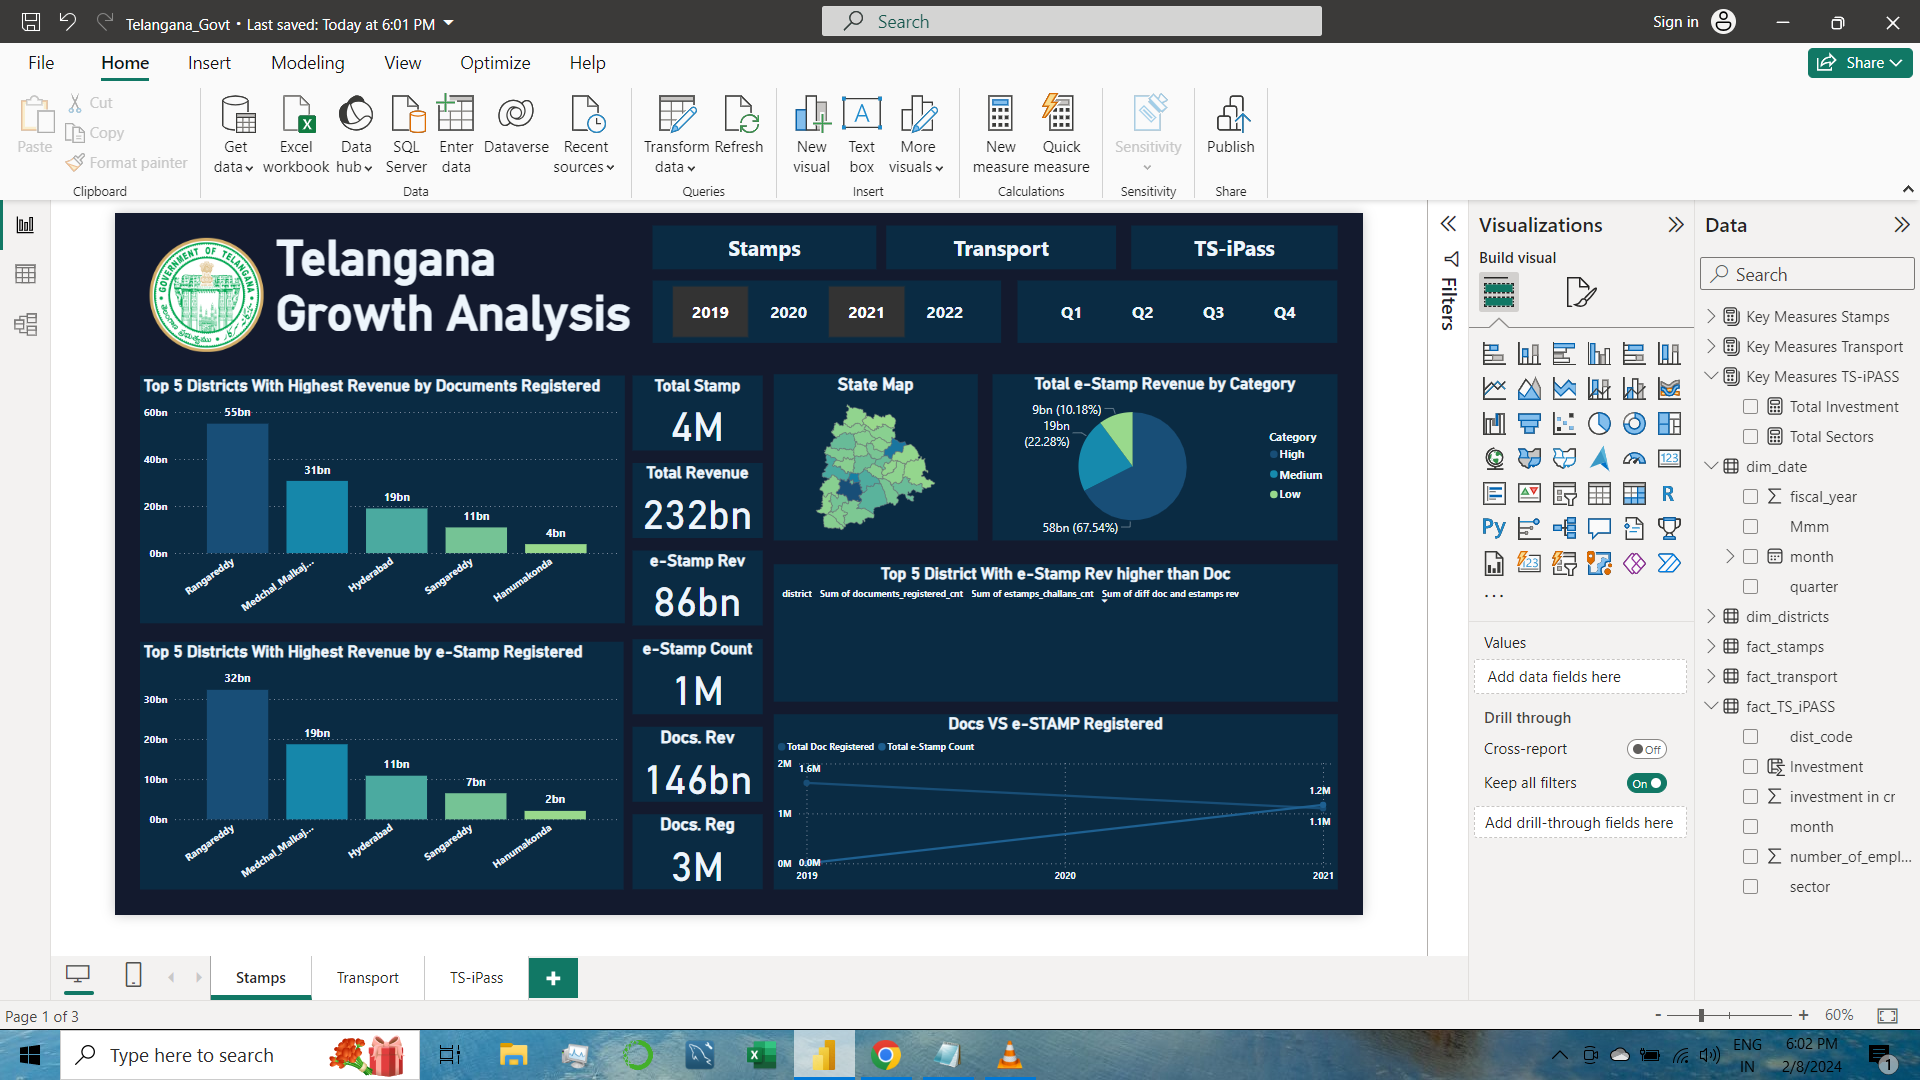

The dashboard page shown, as its layout file describes it:
{"tool":"powerbi","page":{"name":"Stamps","canvas":[1664,936],"ordinal":0},"visuals":[{"type":"slicer","fields":{"Values":["dim_date.fiscal_year"]},"box":[716.7,90,465,83.3],"z":0},{"type":"slicer","fields":{"Values":["dim_date.quarter"]},"box":[1203.3,90,426.7,83.3],"z":1000},{"type":"clusteredColumnChart","title":"Top 5 Districts With Highest Revenue by Documents Registered","fields":{"Y":["Key Measures.Total Docs Reg Revenue"],"Category":["dim_districts.district"]},"box":[34,216,646,330],"z":2000},{"type":"clusteredColumnChart","title":"Top 5 Districts With Highest Revenue by e-Stamp Registered","fields":{"Y":["Key Measures.Total e-Stamp Revenue"],"Category":["dim_districts.district"]},"box":[33.3,571.7,645,330],"z":3000},{"type":"lineChart","title":"Docs VS e-STAMP Registered","fields":{"Y":["Key Measures.Total Doc Registered","Key Measures.Total e-Stamp Count"],"Category":["dim_date.fiscal_year"]},"box":[878.3,668.3,751.7,233.3],"z":4000},{"type":"tableEx","title":"Top 5 District With e-Stamp Rev higher than Doc","fields":{"Values":["dim_districts.district","Sum(fact_stamps.documents_registered_cnt)","Sum(fact_stamps.estamps_challans_cnt)","Sum(fact_stamps.diff doc and estamps rev)"]},"box":[878.3,468.3,751.7,183.3],"z":5000},{"type":"pieChart","fields":{"Y":["Key Measures.Total e-Stamp Revenue"],"Category":["fact_stamps.Category"]},"box":[1170,215,460,221.7],"z":6000},{"type":"card","title":"Docs. Reg","fields":{"Values":["Key Measures.Total Doc Registered"]},"box":[690,801.7,173.3,100],"z":7000},{"type":"card","title":"Docs. Rev","fields":{"Values":["Key Measures.Total Docs Reg Revenue"]},"box":[690,684.7,173.3,100],"z":8000},{"type":"card","title":"e-Stamp Count","fields":{"Values":["Key Measures.Total e-Stamp Count"]},"box":[690,567.7,173.3,100],"z":9000},{"type":"card","title":"e-Stamp Rev","fields":{"Values":["Key Measures.Total e-Stamp Revenue"]},"box":[690,450.7,173.3,100],"z":10000},{"type":"shapeMap","title":"State Map","fields":{"Category":["dim_districts.district"],"Value":["Key Measures Stamps.Total Doc Registered"]},"box":[878.3,215,271.7,221.7],"z":11000},{"type":"card","title":"Total Revenue","fields":{"Values":["Key Measures.Total Revenue"]},"box":[690,333.7,173.3,100],"z":12000},{"type":"card","title":"Total Stamp","fields":{"Values":["Key Measures.Total Stamps"]},"box":[690,216.7,173.3,100],"z":13000},{"type":"image","box":[33.3,28.3,176.7,161.7],"z":14000},{"type":"textbox","box":[210,16.7,506.7,173.3],"z":15000},{"type":"actionButton","box":[716.7,16.7,298.3,58.3],"z":16000},{"type":"actionButton","box":[1355,16.7,275,58.3],"z":17000},{"type":"actionButton","box":[1028.3,16.7,306.7,58.3],"z":18000}]}

Visuals, with their boxes on the page's 1664x936 design canvas (x1, y1, x2, y2). These are canvas units, not pixel positions in the 1920x1080 screenshot, which may show the page scaled, cropped or inside an application window:
slicer - dim_date.fiscal_year: detection(717, 90, 1182, 173)
slicer - dim_date.quarter: detection(1203, 90, 1630, 173)
"Top 5 Districts With Highest Revenue by Documents Registered" clusteredColumnChart: detection(34, 216, 680, 546)
"Top 5 Districts With Highest Revenue by e-Stamp Registered" clusteredColumnChart: detection(33, 572, 678, 902)
"Docs VS e-STAMP Registered" lineChart: detection(878, 668, 1630, 902)
"Top 5 District With e-Stamp Rev higher than Doc" tableEx: detection(878, 468, 1630, 652)
pieChart - Key Measures.Total e-Stamp Revenue x fact_stamps.Category: detection(1170, 215, 1630, 437)
"Docs. Reg" card: detection(690, 802, 863, 902)
"Docs. Rev" card: detection(690, 685, 863, 785)
"e-Stamp Count" card: detection(690, 568, 863, 668)
"e-Stamp Rev" card: detection(690, 451, 863, 551)
"State Map" shapeMap: detection(878, 215, 1150, 437)
"Total Revenue" card: detection(690, 334, 863, 434)
"Total Stamp" card: detection(690, 217, 863, 317)
image: detection(33, 28, 210, 190)
textbox: detection(210, 17, 717, 190)
actionButton: detection(717, 17, 1015, 75)
actionButton: detection(1355, 17, 1630, 75)
actionButton: detection(1028, 17, 1335, 75)
